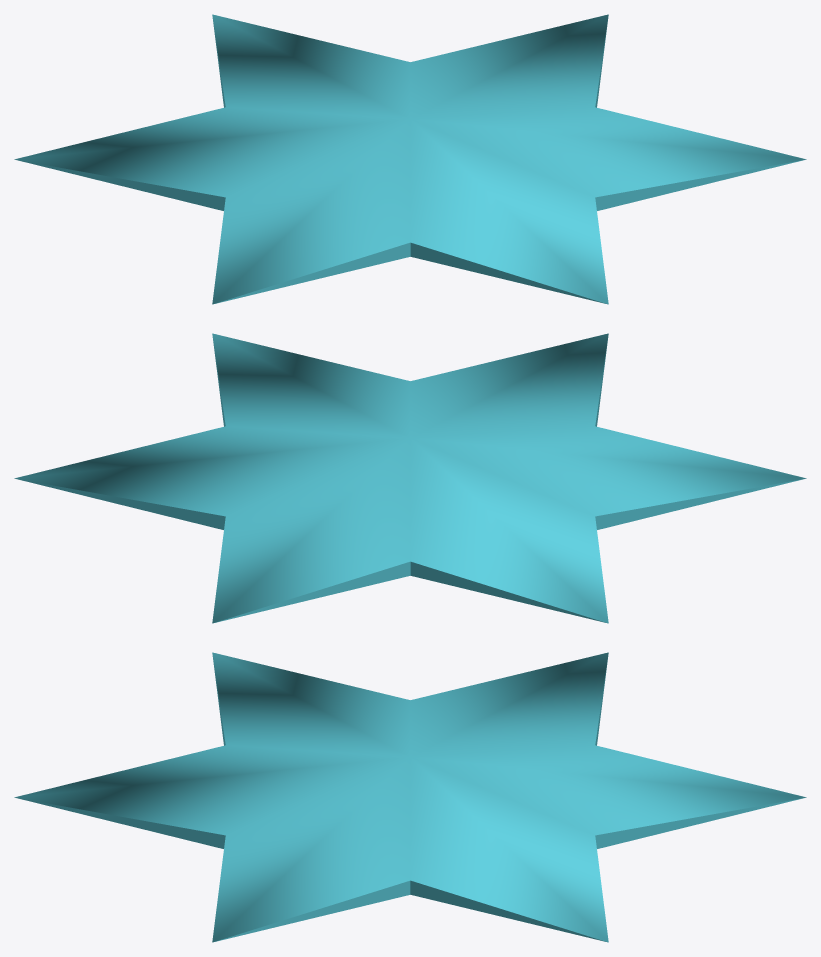
3 renders of one model, top to bottom at view 1: azimuth 30°, elevation 25°; view 2: azimuth 150°, elevation 25°; view 3: azimuth 270°, elevation 25°, orthographic.
Parts seen in each view (by area): view 1: Star001; view 2: Star001; view 3: Star001.
Part boxes in pixels (left/top/right/bottom): Star001: left=14, top=14, right=806, bottom=304; Star001: left=14, top=333, right=806, bottom=623; Star001: left=14, top=652, right=806, bottom=942.
Bounding box in the file's own units: 56.87 × 7.36 × 65.67.
